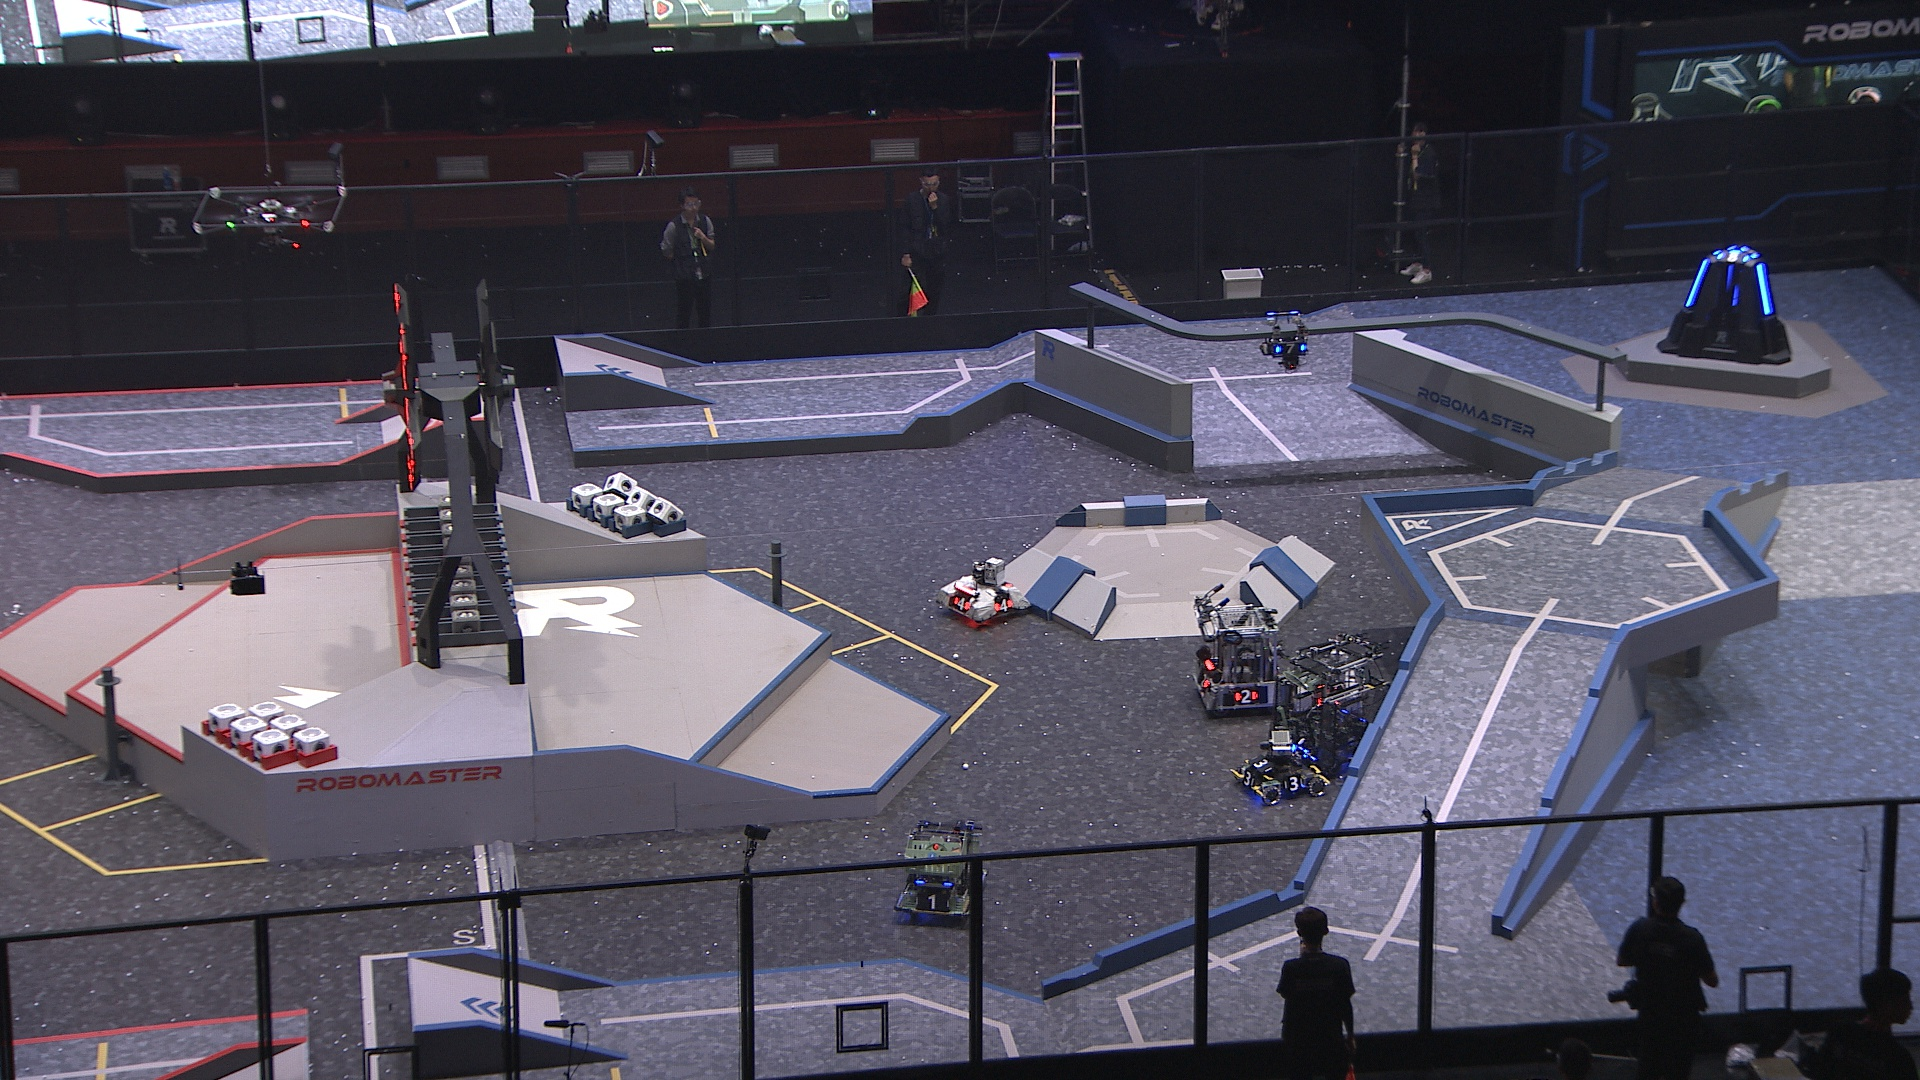armor: (1683, 258, 1706, 309), (1754, 262, 1774, 316), (913, 889, 949, 913), (1714, 248, 1751, 266), (1273, 342, 1307, 357), (1280, 774, 1305, 794), (1233, 688, 1259, 705), (949, 595, 973, 613), (992, 597, 1013, 616), (1724, 266, 1737, 294), (1250, 756, 1271, 773), (1240, 770, 1257, 789), (1197, 673, 1212, 690)
base: (1656, 245, 1795, 367)
car: (1269, 636, 1389, 778), (891, 818, 988, 924), (1191, 603, 1278, 716), (1230, 727, 1331, 808), (934, 556, 1034, 628)
watcher: (1259, 311, 1313, 373)
